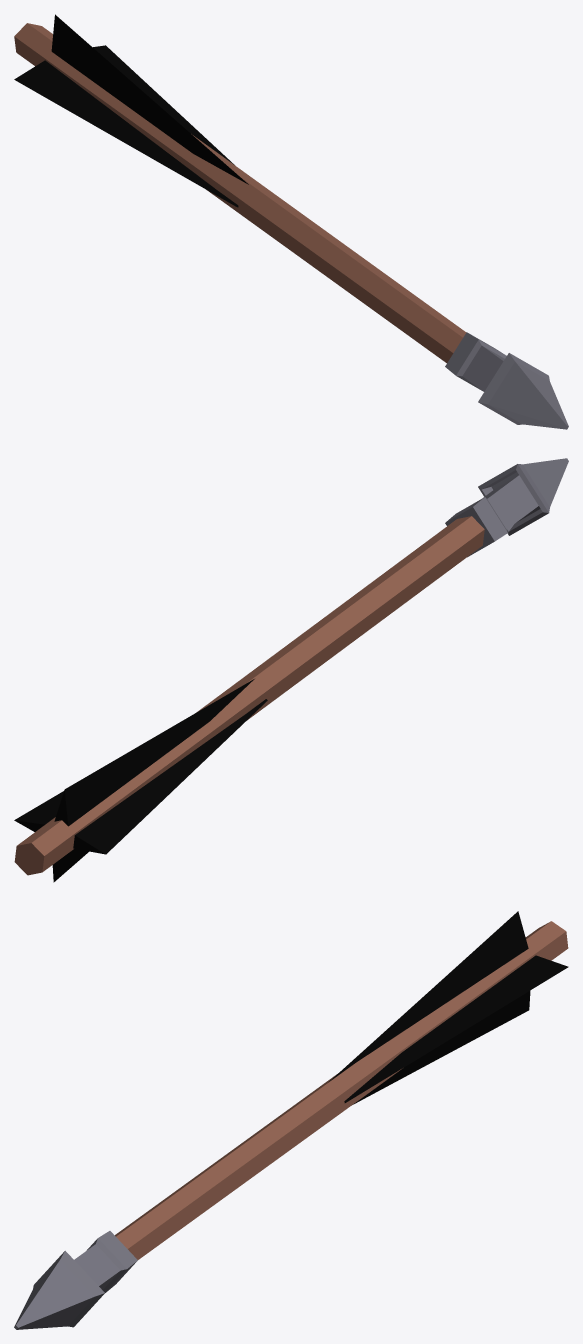
The model's file is Balista_Arrow.fbx.
The picture shows the model from 3 angles, top to bottom: view 1: azimuth 30°, elevation 25°; view 2: azimuth 150°, elevation 25°; view 3: azimuth 330°, elevation 25°; orthographic projection.
Parts seen in each view (by area): view 1: Arrows.002; view 2: Arrows.002; view 3: Arrows.002.
Part boxes in pixels (<box>): Arrows.002: <box>14,14,568,429</box>; Arrows.002: <box>14,458,568,882</box>; Arrows.002: <box>14,911,568,1329</box>.
Bounding box in the file's own units: 114 × 114 × 1149.
